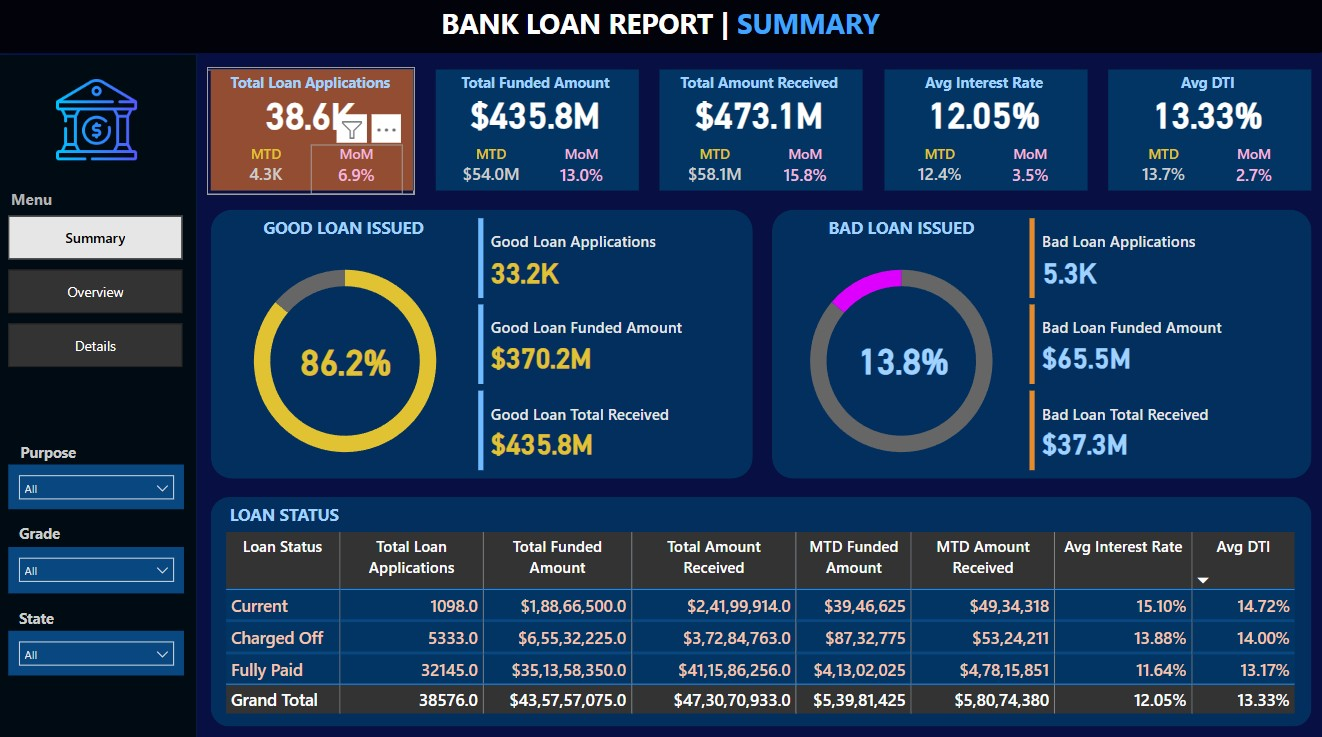

The page's visual inventory and layout, read from the dashboard file:
{"tool":"powerbi","page":{"name":"Summary","canvas":[1280,720],"ordinal":0},"visuals":[{"type":"shape","box":[0,0,1280.5,54.6],"z":0},{"type":"group","id":"g1","title":"Group 1","box":[203.1,69.4,199.4,120.6],"z":0,"group":"g7"},{"type":"group","id":"g2","title":"Group 1","box":[419.5,69.4,199.4,120.6],"z":0,"group":"g8"},{"type":"group","id":"g3","title":"Group 1","box":[636,69.4,199.4,120.6],"z":0,"group":"g9"},{"type":"group","id":"g4","title":"Group 1","box":[852.6,69.4,199.4,120.6],"z":0,"group":"g10"},{"type":"group","id":"g5","title":"Group 1","box":[1069.1,69.4,199.4,120.6],"z":0,"group":"g11"},{"type":"textbox","box":[203.6,67.3,199.3,30.8],"z":1000,"group":"g7"},{"type":"textbox","box":[420,67.3,199.3,30.8],"z":1000,"group":"g8"},{"type":"textbox","box":[636.5,67.3,199.3,30.8],"z":1000,"group":"g9"},{"type":"textbox","box":[853.1,67.3,199.3,30.8],"z":1000,"group":"g10"},{"type":"textbox","box":[1069.6,67.3,199.3,30.8],"z":1000,"group":"g11"},{"type":"shape","box":[206.5,205.3,523.3,259.9],"z":1000},{"type":"textbox","box":[229.2,206.5,210.1,39.2],"z":1000,"group":"g6"},{"type":"textbox","box":[9.6,424.9,79.3,30.1],"z":1000,"group":"g20"},{"type":"textbox","box":[219.5,483.9,210.1,35.5],"z":1000,"group":"g19"},{"type":"textbox","box":[10.3,503.4,62.5,32.4],"z":1000,"group":"g21"},{"type":"textbox","box":[2.1,584.6,71.2,29.7],"z":1000,"group":"g22"},{"type":"shape","box":[747.6,205.3,521,259.9],"z":2000},{"type":"shape","box":[0,54.6,192.9,665.8],"z":3000},{"type":"shape","box":[206.5,69.4,195.9,117.2],"z":3000,"group":"g1"},{"type":"shape","box":[422.9,69.4,195.9,117.2],"z":3000,"group":"g2"},{"type":"shape","box":[639.4,69.4,195.9,117.2],"z":3000,"group":"g3"},{"type":"shape","box":[856,69.4,195.9,117.2],"z":3000,"group":"g4"},{"type":"shape","box":[1072.5,69.4,195.9,117.2],"z":3000,"group":"g5"},{"type":"group","id":"g6","title":"Group 2","box":[229.2,206.5,210.1,39.2],"z":4000},{"type":"textbox","box":[760.7,206.5,223.1,32],"z":5000},{"type":"shape","box":[0,54.9,192.7,665.1],"z":6000},{"type":"textbox","box":[403,2.1,474.5,45.6],"z":7000},{"type":"group","id":"g7","title":"Group 2","box":[203.1,67.3,199.8,122.6],"z":7000,"group":"g12"},{"type":"group","id":"g8","title":"Group 2","box":[419.5,67.3,199.8,122.6],"z":7000,"group":"g13"},{"type":"group","id":"g9","title":"Group 2","box":[636,67.3,199.8,122.6],"z":7000,"group":"g14"},{"type":"group","id":"g10","title":"Group 2","box":[852.6,67.3,199.8,122.6],"z":7000,"group":"g15"},{"type":"group","id":"g11","title":"Group 2","box":[1069.1,67.3,199.8,122.6],"z":7000,"group":"g16"},{"type":"card","fields":{"Values":["financial_loan.Total Loan Applications"]},"box":[203.1,88.3,199.3,45.5],"z":8000,"group":"g1"},{"type":"card","fields":{"Values":["financial_loan.Total Loan Amount"]},"box":[419.5,88.3,199.3,45.5],"z":8000,"group":"g2"},{"type":"card","fields":{"Values":["financial_loan.Total Amount Collection"]},"box":[636,88.3,199.3,45.5],"z":8000,"group":"g3"},{"type":"card","fields":{"Values":["financial_loan.Avg Interest Rate"]},"box":[852.6,88.3,199.3,45.5],"z":8000,"group":"g4"},{"type":"card","fields":{"Values":["financial_loan.Avg DTI"]},"box":[1069.1,88.3,199.3,45.5],"z":8000,"group":"g5"},{"type":"card","title":"MoM","fields":{"Values":["financial_loan.YOY Loan Applications"]},"box":[303.6,141.9,88.1,48.7],"z":8000,"group":"g12"},{"type":"card","title":"MoM","fields":{"Values":["financial_loan.YOY Loan Amount"]},"box":[520,141.9,88.1,48.7],"z":8000,"group":"g13"},{"type":"card","title":"MoM","fields":{"Values":["financial_loan.YOY Loan Collection"]},"box":[736.5,141.9,88.1,48.7],"z":8000,"group":"g14"},{"type":"card","title":"MoM","fields":{"Values":["financial_loan.YOY Int Rate"]},"box":[953.1,141.9,88.1,48.7],"z":8000,"group":"g15"},{"type":"card","title":"MoM","fields":{"Values":["financial_loan.YOY DTI"]},"box":[1169.6,141.9,88.1,48.7],"z":8000,"group":"g16"},{"type":"card","title":"MTD","fields":{"Values":["financial_loan.MTD Applications"]},"box":[209.8,142,99.3,48],"z":9000,"group":"g1"},{"type":"card","title":"MTD","fields":{"Values":["financial_loan.MTD Loan Amount"]},"box":[426.2,142,99.3,48],"z":9000,"group":"g2"},{"type":"card","title":"MTD","fields":{"Values":["financial_loan.MTD Loan Collection"]},"box":[642.7,142,99.3,48],"z":9000,"group":"g3"},{"type":"card","title":"MTD","fields":{"Values":["financial_loan.MTD Avg Int Rate"]},"box":[859.3,142,99.3,48],"z":9000,"group":"g4"},{"type":"card","title":"MTD","fields":{"Values":["financial_loan.MTD Avg DTI"]},"box":[1075.8,142,99.3,48],"z":9000,"group":"g5"},{"type":"group","id":"g12","title":"Group 3","box":[203.1,67.3,199.8,123.3],"z":10000},{"type":"group","id":"g13","title":"Group 3","box":[419.5,67.3,199.9,123.3],"z":11000},{"type":"donutChart","fields":{"Y":["financial_loan.Total Loan Applications"],"Category":["financial_loan.Fully Paid Status"]},"box":[211.2,236.2,250,230],"z":11000,"group":"g17"},{"type":"donutChart","fields":{"Y":["financial_loan.Total Loan Applications"],"Category":["financial_loan.Fully Paid Status"]},"box":[747.6,236.2,250,230],"z":11000,"group":"g18"},{"type":"group","id":"g14","title":"Group 3","box":[636,67.3,199.9,123.3],"z":12000},{"type":"card","fields":{"Values":["financial_loan.Good Loan Issued"]},"box":[279.6,318,114,63.2],"z":12000,"group":"g17"},{"type":"card","fields":{"Values":["financial_loan.Bad Loan"]},"box":[816.4,320.5,116.3,57],"z":12000,"group":"g18"},{"type":"group","id":"g15","title":"Group 3","box":[852.6,67.3,199.9,123.3],"z":13000},{"type":"group","id":"g16","title":"Group 3","box":[1069.1,67.3,199.9,123.3],"z":14000},{"type":"group","id":"g17","title":"Group 4","box":[211.2,236.2,250,230],"z":15000},{"type":"group","id":"g18","title":"Group 4","box":[747.6,236.2,250,230],"z":16000},{"type":"shape","box":[206.5,483,1062.1,221.9],"z":17000},{"type":"cardVisual","fields":{"Data":["financial_loan.Good Loan Applications","financial_loan.Good Loan Funded Amount","financial_loan.Good Loan Total Collection"]},"box":[459.3,208.9,265.8,255.1],"z":18000},{"type":"cardVisual","fields":{"Data":["financial_loan.Bad Loan Applications","financial_loan.Bad Loan Funded Amount","financial_loan.Bad Loan Total Collection"]},"box":[992.1,208.9,265.8,255.1],"z":19000},{"type":"tableEx","title":"LOAN ISSUED BY STATUS","fields":{"Values":["financial_loan.loan_status","financial_loan.Total Loan Applications","financial_loan.Total Loan Amount","financial_loan.Total Amount Collection","financial_loan.MTD Loan Amount","financial_loan.MTD Loan Collection","financial_loan.Avg Interest Rate","financial_loan.Avg DTI"]},"box":[214.4,511.8,1046.3,192.7],"z":20000},{"type":"group","id":"g19","title":"Group 2","box":[219.5,483.9,210.1,35.5],"z":21000},{"type":"image","box":[26.8,69.2,138.4,99.3],"z":22000},{"type":"textbox","box":[8.3,180.3,157.5,34.2],"z":23000},{"type":"pageNavigator","box":[11.4,211.4,168.6,147.3],"z":24000},{"type":"slicer","fields":{"Values":["financial_loan.Good v Bad Loan"]},"box":[10.4,450.9,169.7,43],"z":25000},{"type":"slicer","fields":{"Values":["financial_loan.grade"]},"box":[10.7,530.6,169.9,44.5],"z":26000},{"type":"slicer","fields":{"Values":["financial_loan.address_state"]},"box":[10.4,611.2,169.9,43.5],"z":27000},{"type":"group","id":"g20","title":"Group 2","box":[9.6,424.9,79.3,30.1],"z":28000},{"type":"group","id":"g21","title":"Group 2","box":[10.3,503.4,62.5,32.4],"z":29000},{"type":"group","id":"g22","title":"Group 2","box":[2.1,584.6,71.2,29.7],"z":30000}]}

Visuals, with their boxes in screenshot pixels (x1, y1, x2, y2), scaled from the page's 1280x720 canvas onto the 1322x737 screenshot:
shape: select_region(0, 0, 1321, 56)
"Group 1" group: select_region(210, 71, 416, 194)
"Group 1" group: select_region(433, 71, 639, 194)
"Group 1" group: select_region(657, 71, 863, 194)
"Group 1" group: select_region(881, 71, 1087, 194)
"Group 1" group: select_region(1104, 71, 1310, 194)
textbox: select_region(210, 69, 416, 100)
textbox: select_region(434, 69, 640, 100)
textbox: select_region(657, 69, 863, 100)
textbox: select_region(881, 69, 1087, 100)
textbox: select_region(1105, 69, 1311, 100)
shape: select_region(213, 210, 754, 476)
textbox: select_region(237, 211, 454, 252)
textbox: select_region(10, 435, 92, 466)
textbox: select_region(227, 495, 444, 532)
textbox: select_region(11, 515, 75, 548)
textbox: select_region(2, 598, 76, 629)
shape: select_region(772, 210, 1310, 476)
shape: select_region(0, 56, 199, 736)
shape: select_region(213, 71, 416, 191)
shape: select_region(437, 71, 639, 191)
shape: select_region(660, 71, 863, 191)
shape: select_region(884, 71, 1086, 191)
shape: select_region(1108, 71, 1310, 191)
"Group 2" group: select_region(237, 211, 454, 252)
textbox: select_region(786, 211, 1016, 244)
shape: select_region(0, 56, 199, 736)
textbox: select_region(416, 2, 906, 49)
"Group 2" group: select_region(210, 69, 416, 194)
"Group 2" group: select_region(433, 69, 640, 194)
"Group 2" group: select_region(657, 69, 863, 194)
"Group 2" group: select_region(881, 69, 1087, 194)
"Group 2" group: select_region(1104, 69, 1311, 194)
card - financial_loan.Total Loan Applications: select_region(210, 90, 416, 137)
card - financial_loan.Total Loan Amount: select_region(433, 90, 639, 137)
card - financial_loan.Total Amount Collection: select_region(657, 90, 863, 137)
card - financial_loan.Avg Interest Rate: select_region(881, 90, 1086, 137)
card - financial_loan.Avg DTI: select_region(1104, 90, 1310, 137)
"MoM" card: select_region(314, 145, 405, 195)
"MoM" card: select_region(537, 145, 628, 195)
"MoM" card: select_region(761, 145, 852, 195)
"MoM" card: select_region(984, 145, 1075, 195)
"MoM" card: select_region(1208, 145, 1299, 195)
"MTD" card: select_region(217, 145, 319, 194)
"MTD" card: select_region(440, 145, 543, 194)
"MTD" card: select_region(664, 145, 766, 194)
"MTD" card: select_region(887, 145, 990, 194)
"MTD" card: select_region(1111, 145, 1214, 194)
"Group 3" group: select_region(210, 69, 416, 195)
"Group 3" group: select_region(433, 69, 640, 195)
donutChart - financial_loan.Total Loan Applications x financial_loan.Fully Paid Status: select_region(218, 242, 476, 477)
donutChart - financial_loan.Total Loan Applications x financial_loan.Fully Paid Status: select_region(772, 242, 1030, 477)
"Group 3" group: select_region(657, 69, 863, 195)
card - financial_loan.Good Loan Issued: select_region(289, 326, 407, 390)
card - financial_loan.Bad Loan: select_region(843, 328, 963, 386)
"Group 3" group: select_region(881, 69, 1087, 195)
"Group 3" group: select_region(1104, 69, 1311, 195)
"Group 4" group: select_region(218, 242, 476, 477)
"Group 4" group: select_region(772, 242, 1030, 477)
shape: select_region(213, 494, 1310, 722)
cardVisual - financial_loan.Good Loan Applications x financial_loan.Good Loan Funded Amount: select_region(474, 214, 749, 475)
cardVisual - financial_loan.Bad Loan Applications x financial_loan.Bad Loan Funded Amount: select_region(1025, 214, 1299, 475)
"LOAN ISSUED BY STATUS" tableEx: select_region(221, 524, 1302, 721)
"Group 2" group: select_region(227, 495, 444, 532)
image: select_region(28, 71, 171, 172)
textbox: select_region(9, 185, 171, 220)
pageNavigator: select_region(12, 216, 186, 367)
slicer - financial_loan.Good v Bad Loan: select_region(11, 462, 186, 506)
slicer - financial_loan.grade: select_region(11, 543, 187, 589)
slicer - financial_loan.address_state: select_region(11, 626, 186, 670)
"Group 2" group: select_region(10, 435, 92, 466)
"Group 2" group: select_region(11, 515, 75, 548)
"Group 2" group: select_region(2, 598, 76, 629)
